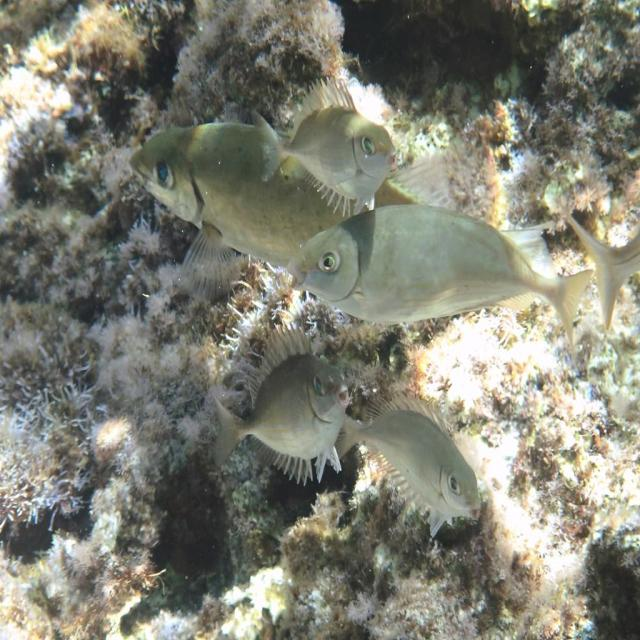Sokar Baligi: (212, 327, 348, 505), (258, 68, 404, 224)
